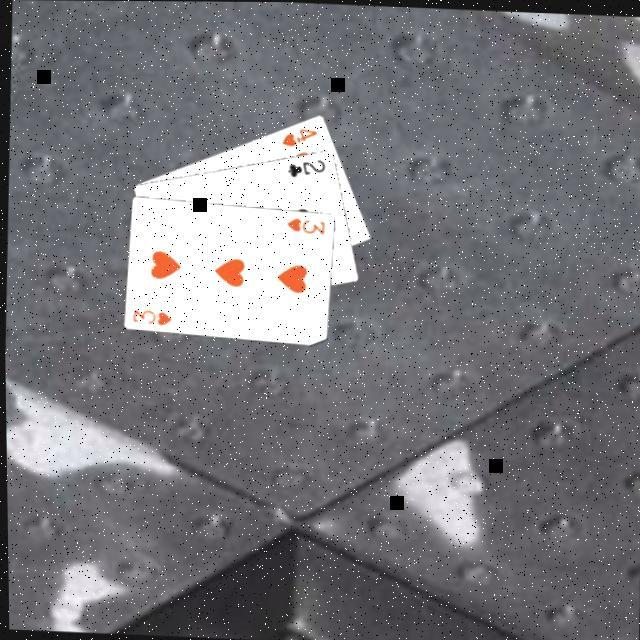2C: (285, 155, 329, 180)
3H: (283, 214, 328, 238), (129, 306, 174, 328)
4H: (277, 124, 320, 149)
